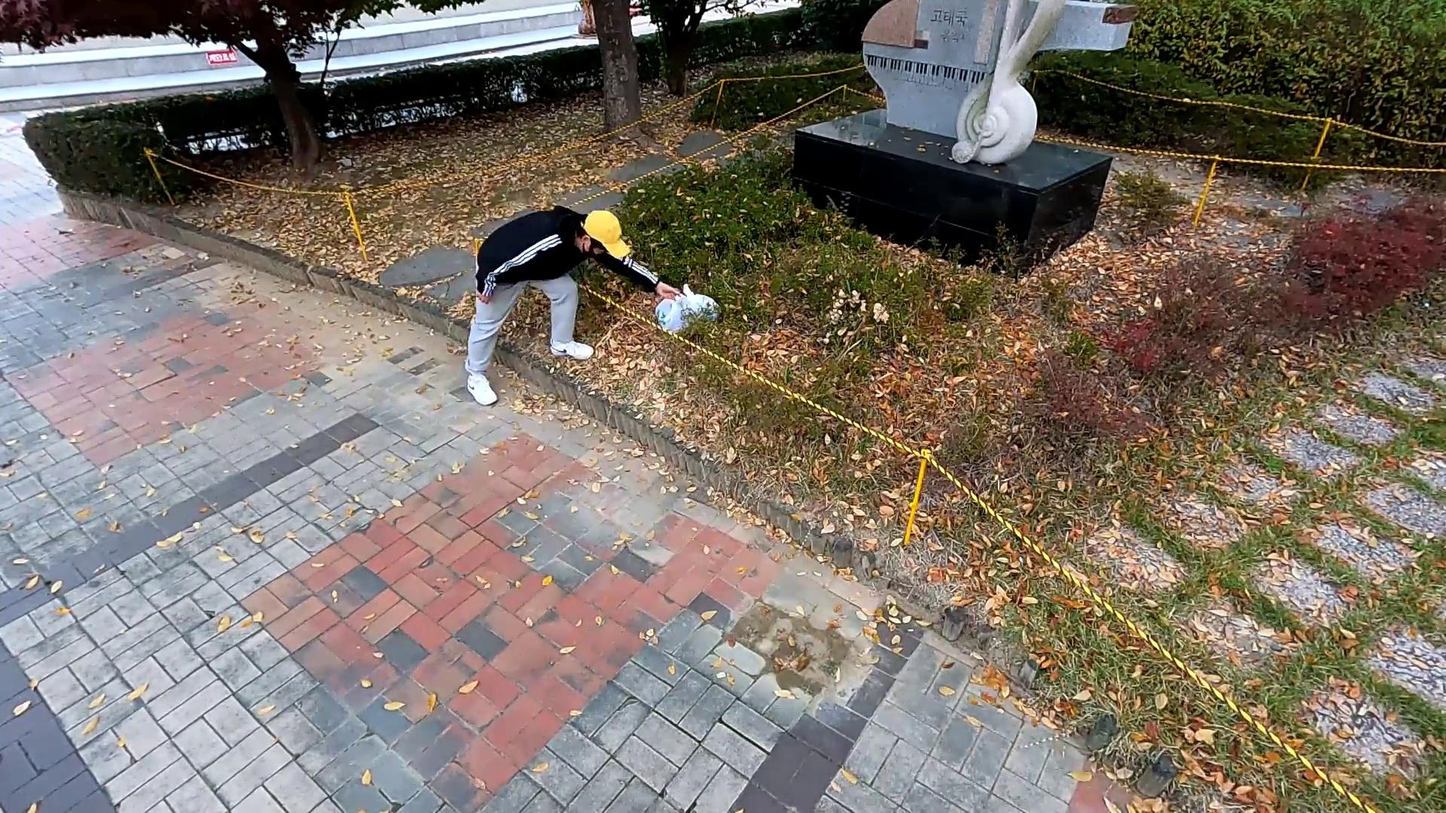person: (464, 194, 680, 416)
trash: (646, 286, 693, 337), (674, 281, 723, 328)
